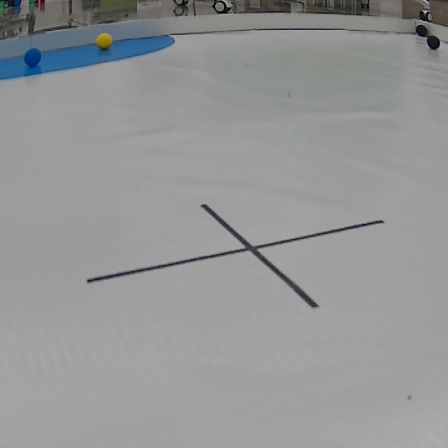black: (424, 34, 441, 52), (415, 23, 430, 37)
blue: (25, 50, 43, 68)
blue_base: (0, 33, 174, 76)
yellow: (95, 32, 115, 51)
